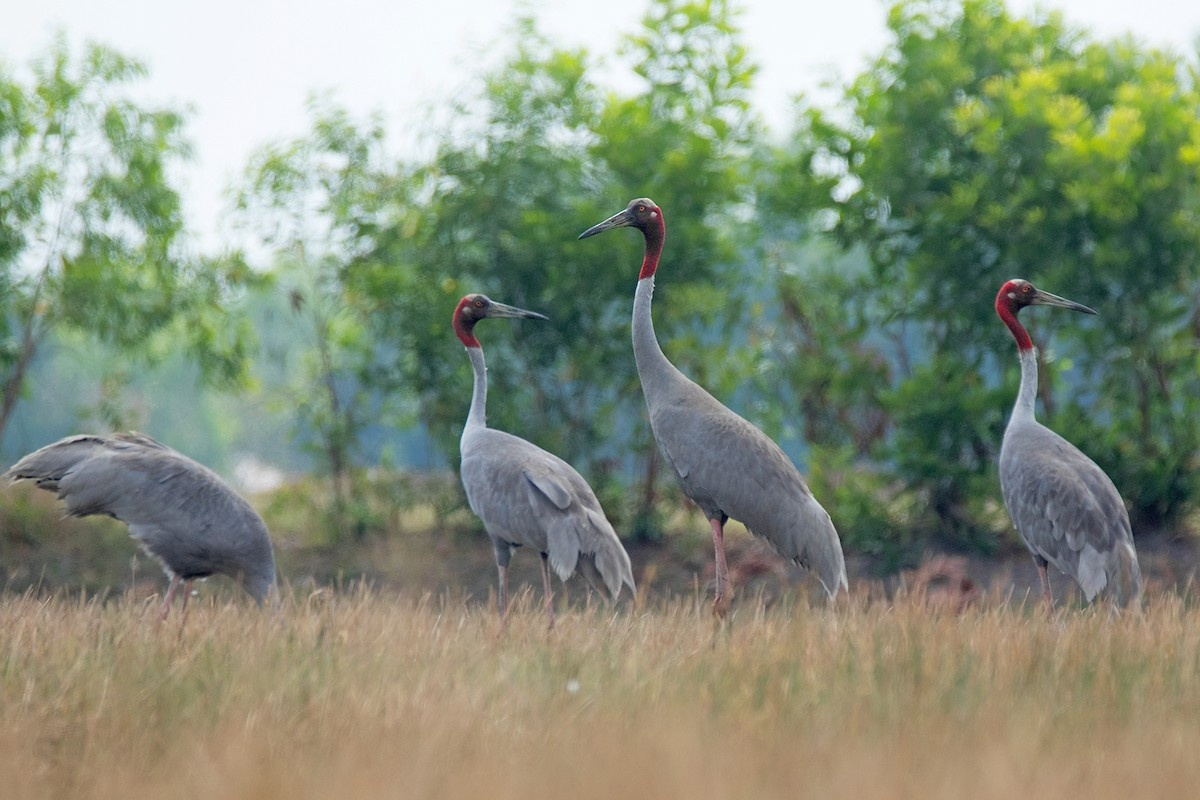crane: (578, 186, 860, 616), (440, 282, 638, 601), (983, 258, 1152, 612)
